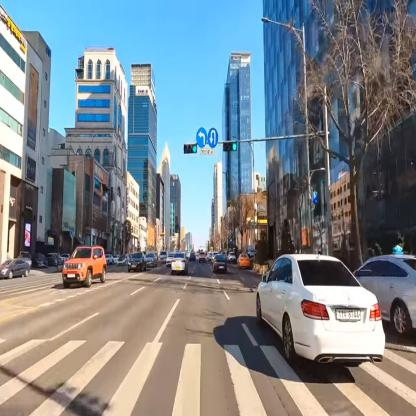Green: (184, 143, 196, 154), (222, 144, 237, 152)
